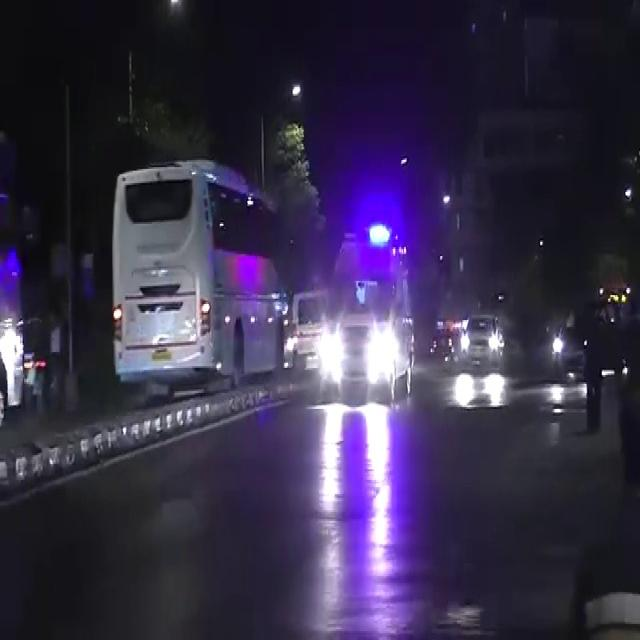ambulance: (324, 192, 414, 427)
